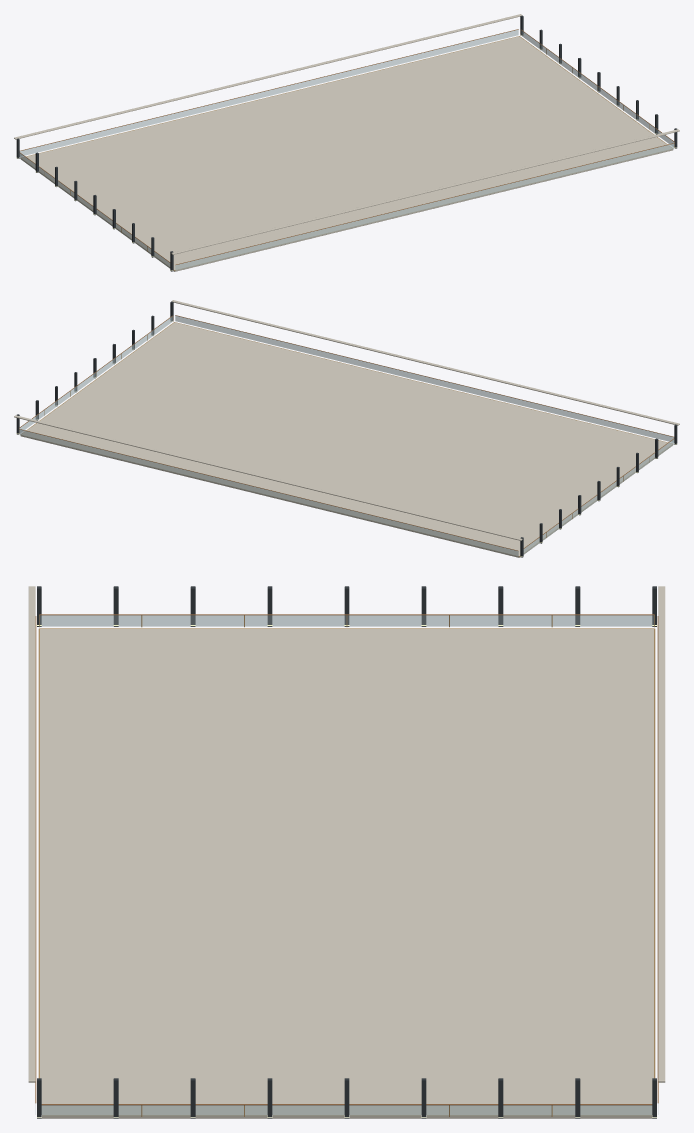
The model's file is luminary-f2-shell.glb.
The picture shows the model from 3 angles, top to bottom: view 1: azimuth 30°, elevation 25°; view 2: azimuth 150°, elevation 25°; view 3: azimuth 270°, elevation 25°; orthographic projection. The views are drawn at different scales.
Visible parts, largest first — view 1: F2 calibrated foundation, F2 glass balustrade.002, F2 glass balustrade.003, F2 floating fascia, F2 floating fascia.001, F2 glass balustrade.001, F2 glass balustrade, F2 timber handrail.002, F2 timber handrail.003, F2 bronze perimeter reveal.001, F2 bronze perimeter reveal; view 2: F2 calibrated foundation, F2 glass balustrade.003, F2 glass balustrade.002, F2 floating fascia, F2 floating fascia.001, F2 glass balustrade.001, F2 glass balustrade, F2 timber handrail.002, F2 timber handrail.003, F2 bronze perimeter reveal, F2 bronze perimeter reveal.001; view 3: F2 calibrated foundation, F2 glass balustrade, F2 glass balustrade.001, F2 floating fascia, F2 floating fascia.001, F2 timber handrail, F2 timber handrail.001, F2 timber handrail.002, F2 timber handrail.003, F2 bronze perimeter reveal, F2 bronze perimeter reveal.001.
Boxes of the visible parts, x1,y1,x2,y2 form: F2 calibrated foundation: [21, 36, 673, 271]; F2 glass balustrade.002: [175, 143, 674, 270]; F2 glass balustrade.003: [20, 30, 518, 156]; F2 floating fascia: [171, 129, 679, 254]; F2 floating fascia.001: [14, 14, 522, 139]; F2 glass balustrade.001: [521, 30, 674, 146]; F2 glass balustrade: [19, 153, 170, 267]; F2 timber handrail.002: [175, 143, 674, 264]; F2 timber handrail.003: [20, 29, 518, 150]; F2 bronze perimeter reveal.001: [21, 36, 518, 157]; F2 bronze perimeter reveal: [174, 149, 672, 270]; F2 calibrated foundation: [20, 322, 672, 557]; F2 glass balustrade.003: [19, 429, 518, 556]; F2 glass balustrade.002: [175, 316, 673, 442]; F2 floating fascia: [171, 300, 679, 425]; F2 floating fascia.001: [14, 415, 522, 540]; F2 glass balustrade.001: [19, 316, 172, 432]; F2 glass balustrade: [523, 439, 674, 553]; F2 timber handrail.002: [175, 315, 673, 436]; F2 timber handrail.003: [19, 429, 518, 550]; F2 bronze perimeter reveal: [175, 322, 672, 443]; F2 bronze perimeter reveal.001: [21, 435, 519, 556]; F2 calibrated foundation: [40, 629, 653, 1118]; F2 glass balustrade: [40, 615, 653, 626]; F2 glass balustrade.001: [41, 1105, 652, 1116]; F2 floating fascia: [28, 586, 35, 1082]; F2 floating fascia.001: [658, 586, 665, 1082]; F2 timber handrail: [39, 614, 654, 615]; F2 timber handrail.001: [41, 1104, 652, 1105]; F2 timber handrail.002: [35, 616, 36, 1103]; F2 timber handrail.003: [657, 616, 658, 1103]; F2 bronze perimeter reveal: [38, 628, 39, 1078]; F2 bronze perimeter reveal.001: [654, 628, 655, 1078].
Bounding box in the file's own units: 98.76 × 3.91 × 53.71.
